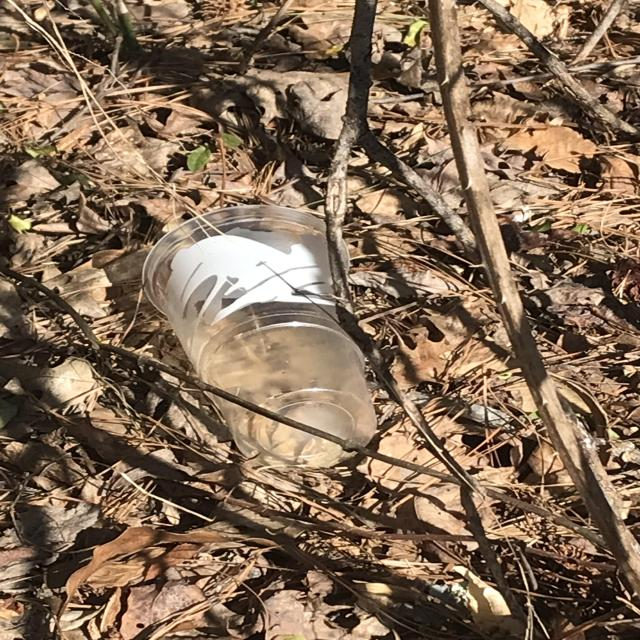litter: (84, 177, 416, 502)
